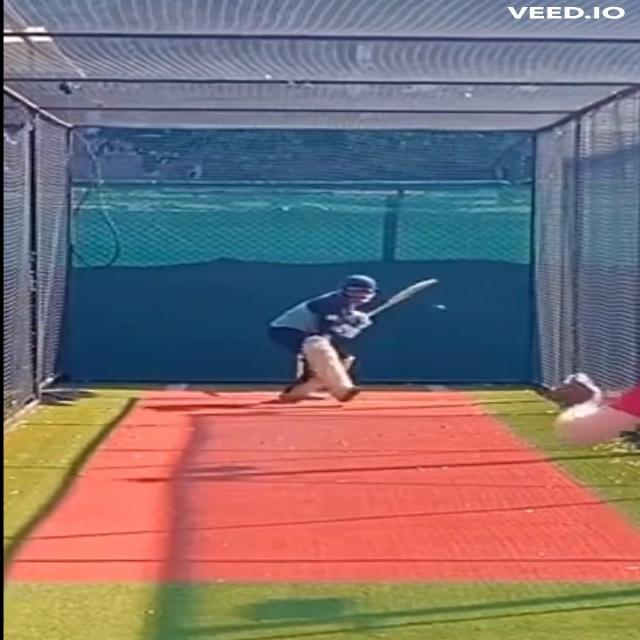ball: (431, 302, 449, 314)
